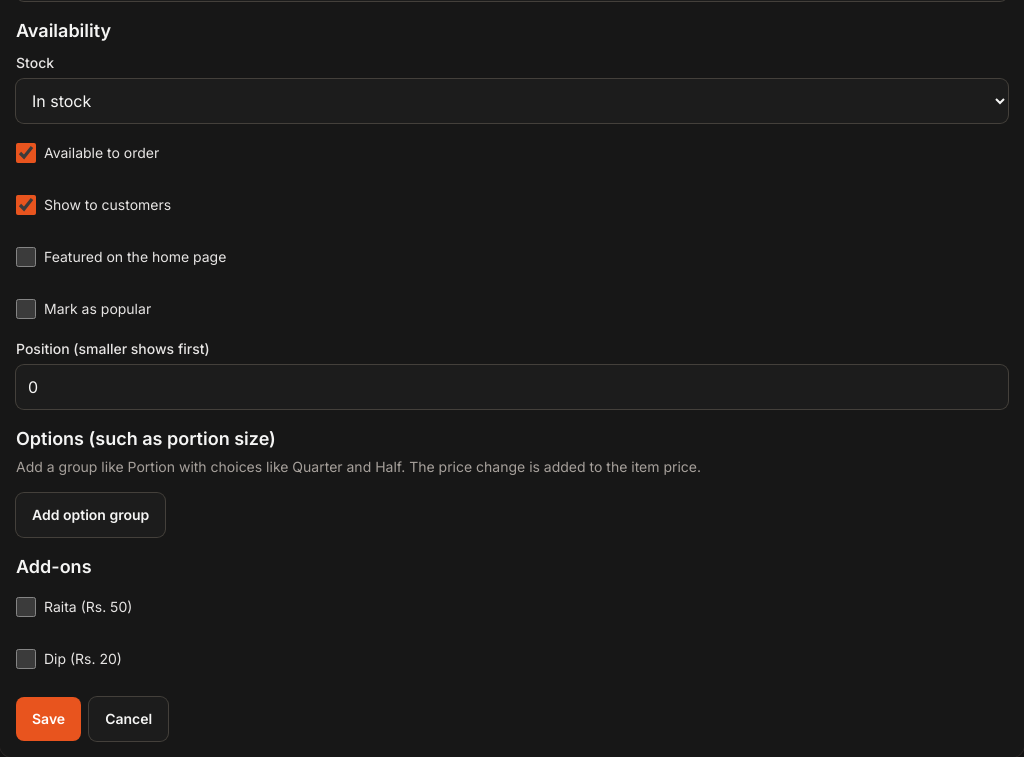
ProductForm › limits the number of option groups
The width and height of the screenshot is (1024, 757).
(page scrolled)
Click the button "Add option group": (91, 515) [16, 493, 165, 537]
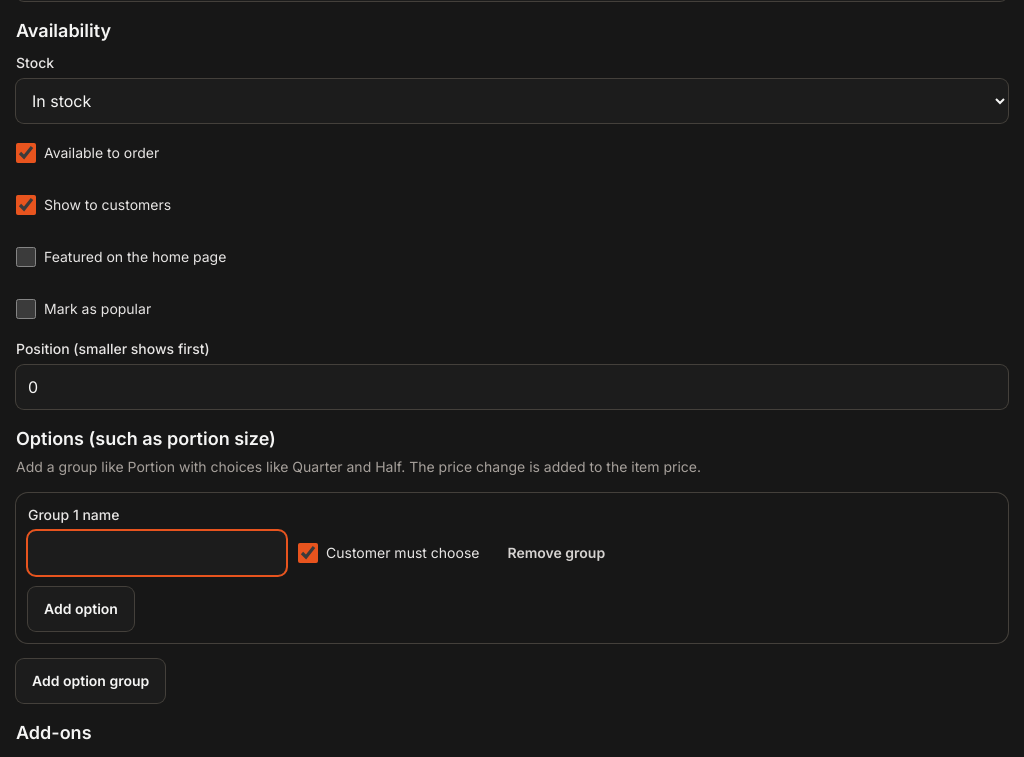
Click the button "Add option group": (91, 681) [16, 659, 165, 703]
(page scrolled)
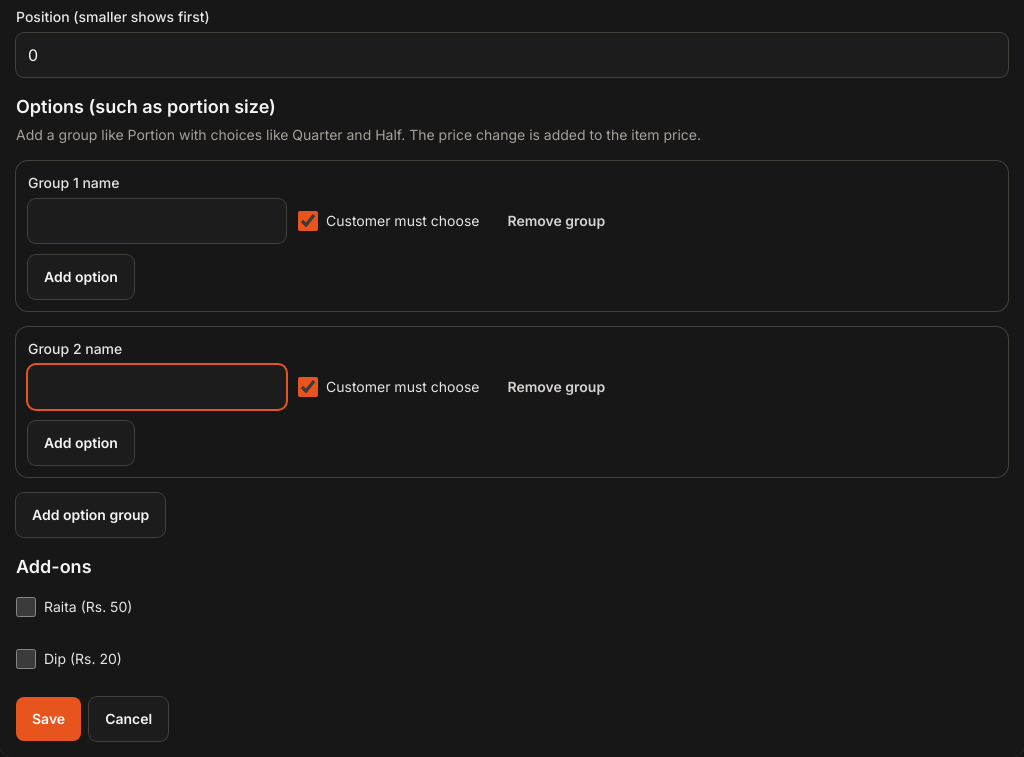
Click the button "Add option group": (91, 515) [16, 493, 165, 537]
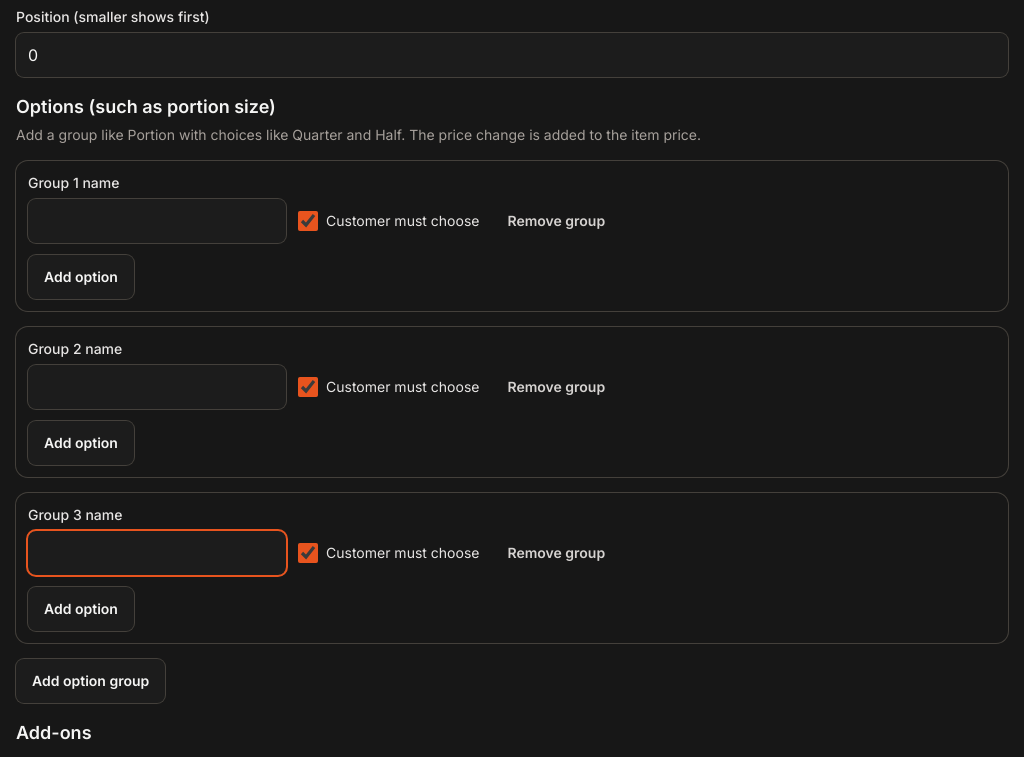
Click the button "Add option group": (91, 681) [16, 659, 165, 703]
(page scrolled)
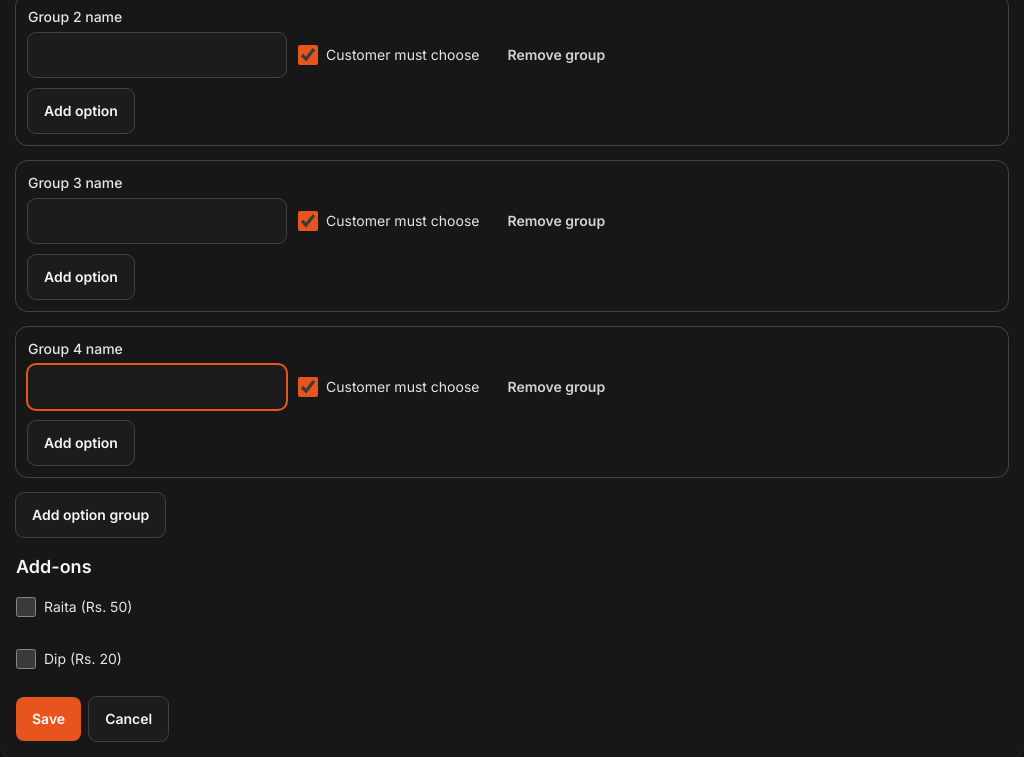
Click the button "Add option group": (91, 515) [16, 493, 165, 537]
(page scrolled)
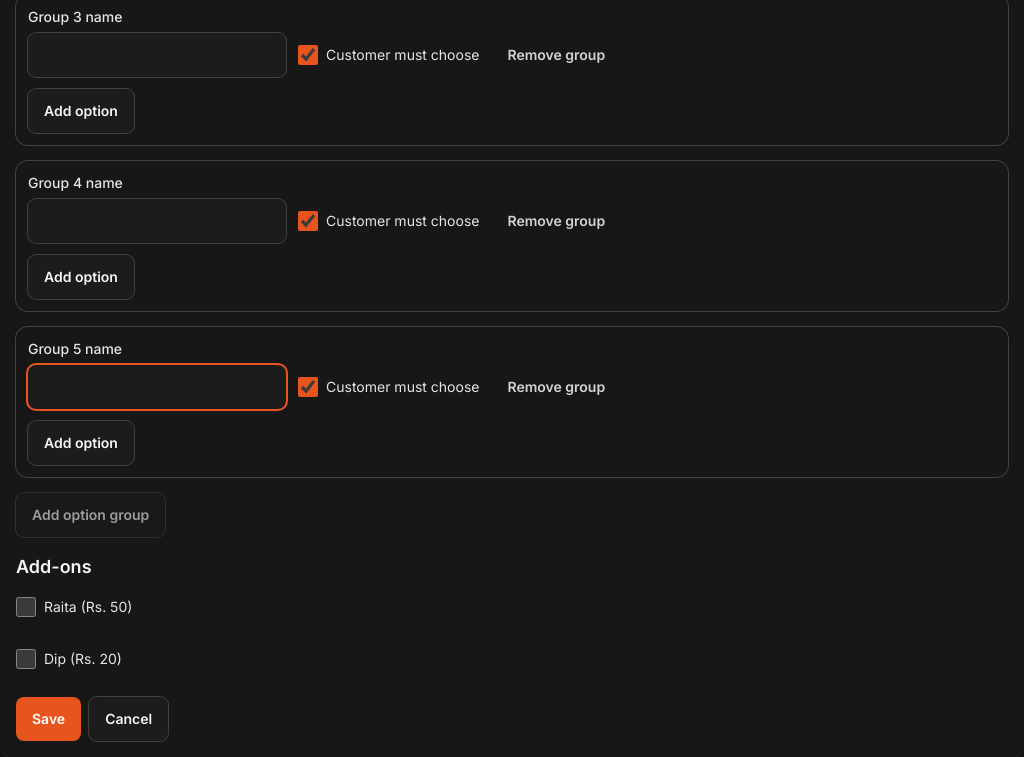
Check: the button "Add option group" is disabled, box [16, 493, 165, 537]
